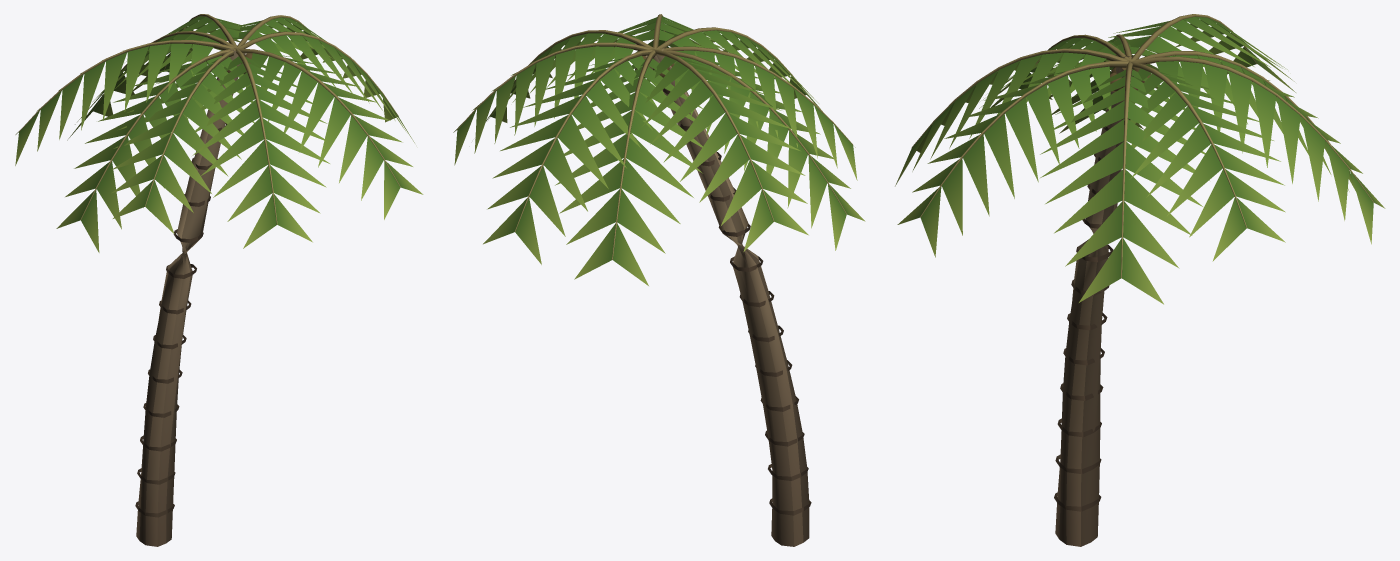
The model's file is coconut_palm_0.glb.
The picture shows the model from 3 angles, left to right: view 1: azimuth 30°, elevation 25°; view 2: azimuth 150°, elevation 25°; view 3: azimuth 270°, elevation 25°; orthographic projection. The views are drawn at different scales.
Parts seen in each view (by area): view 1: Folhas, Tronco; view 2: Folhas, Tronco; view 3: Folhas, Tronco.
Part boxes in pixels (box(x1,y1,x2,y2)): Folhas: box(15, 16, 423, 252); Tronco: box(19, 14, 400, 546); Folhas: box(453, 16, 865, 285); Tronco: box(457, 14, 852, 546); Folhas: box(895, 16, 1385, 304); Tronco: box(911, 14, 1373, 546).
Bounding box in the file's own units: 9.62 × 12.16 × 9.9.
